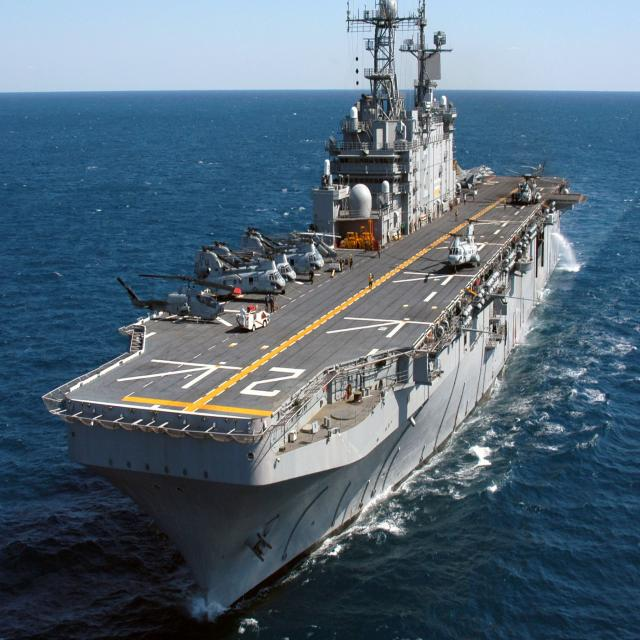navalvessels: (24, 0, 598, 625)
